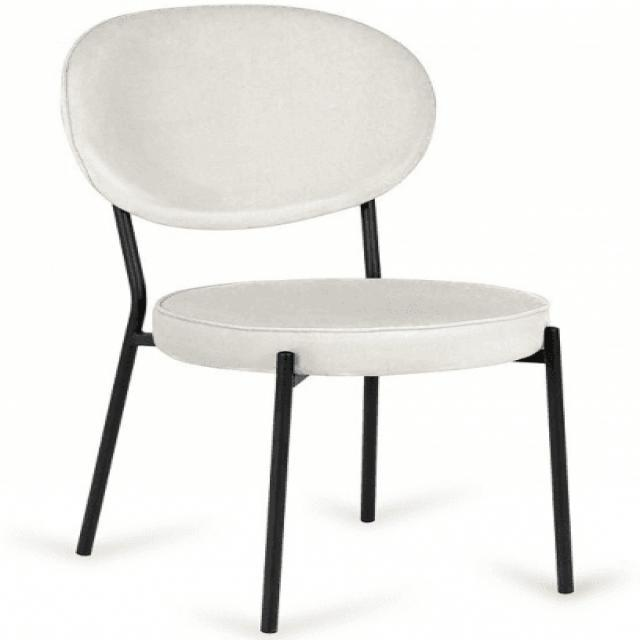chair: (60, 0, 582, 635), (72, 0, 554, 376)
